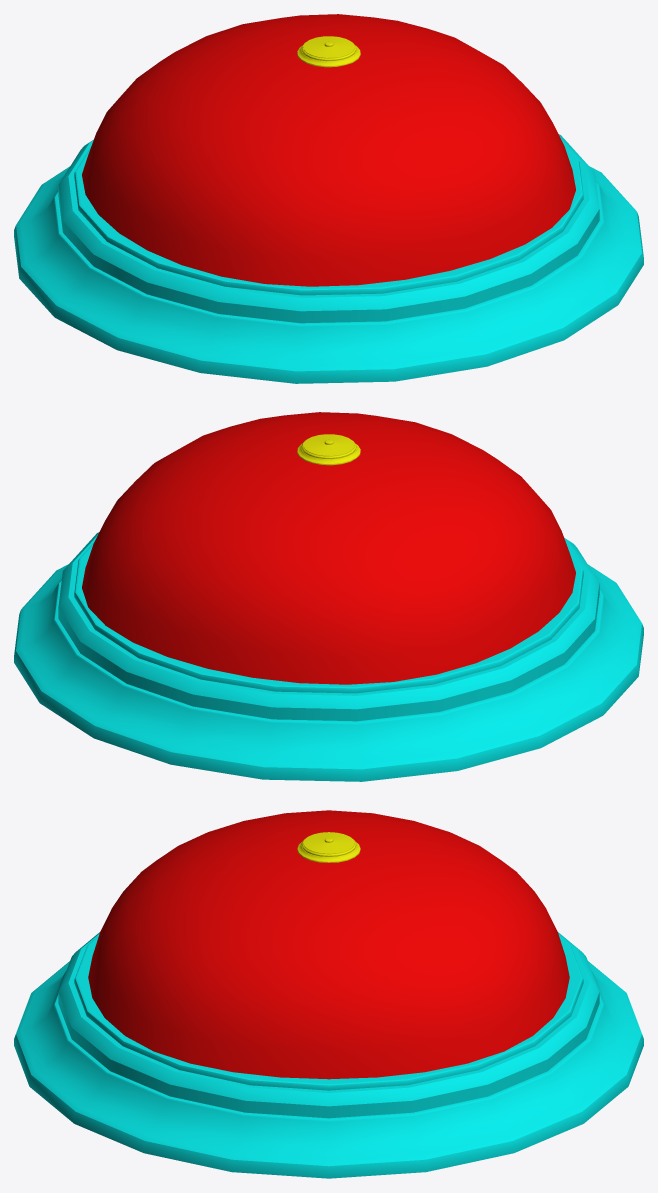
Rendered from Flush_lamp.fbx.
The picture shows the model from 3 angles, top to bottom: view 1: azimuth 30°, elevation 25°; view 2: azimuth 150°, elevation 25°; view 3: azimuth 270°, elevation 25°; orthographic projection.
Parts seen in each view (by area): view 1: Flush_Light_lamp, Flush_Light_base, Flush_light_tip_mesh; view 2: Flush_Light_lamp, Flush_Light_base, Flush_light_tip_mesh; view 3: Flush_Light_lamp, Flush_Light_base, Flush_light_tip_mesh.
Part boxes in pixels (<box>): Flush_Light_lamp: <box>82,14,575,286</box>; Flush_Light_base: <box>14,134,643,383</box>; Flush_light_tip_mesh: <box>297,36,360,67</box>; Flush_Light_lamp: <box>82,412,575,684</box>; Flush_Light_base: <box>14,532,643,781</box>; Flush_light_tip_mesh: <box>297,434,360,465</box>; Flush_Light_lamp: <box>88,810,569,1079</box>; Flush_Light_base: <box>14,932,643,1178</box>; Flush_light_tip_mesh: <box>297,832,360,862</box>.
Bounding box in the file's own units: 76.2 × 27.54 × 76.2.
